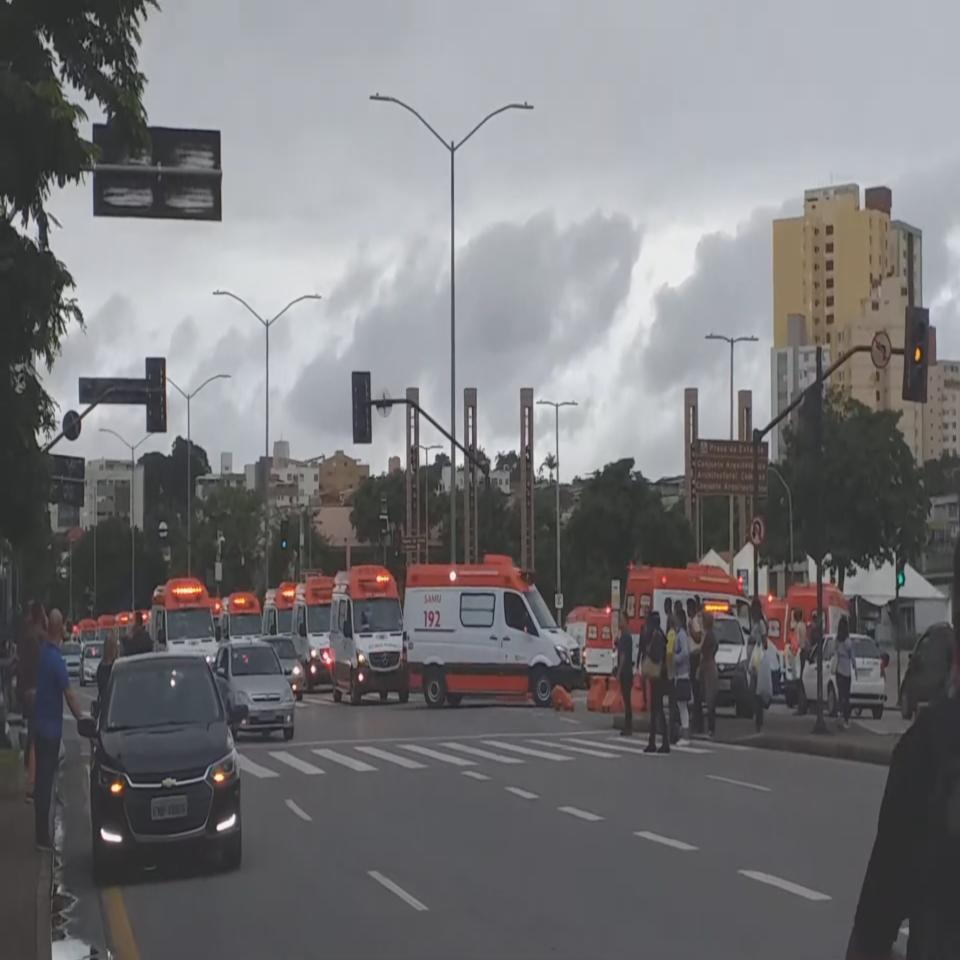ambulancia: (404, 554, 584, 711), (330, 566, 410, 704), (148, 574, 219, 654), (290, 574, 337, 692), (218, 590, 264, 648)
